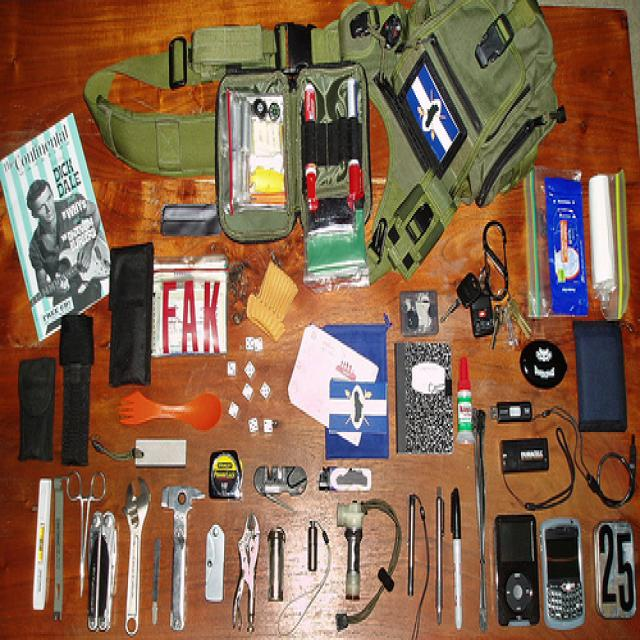wrench: (117, 473, 152, 634)
